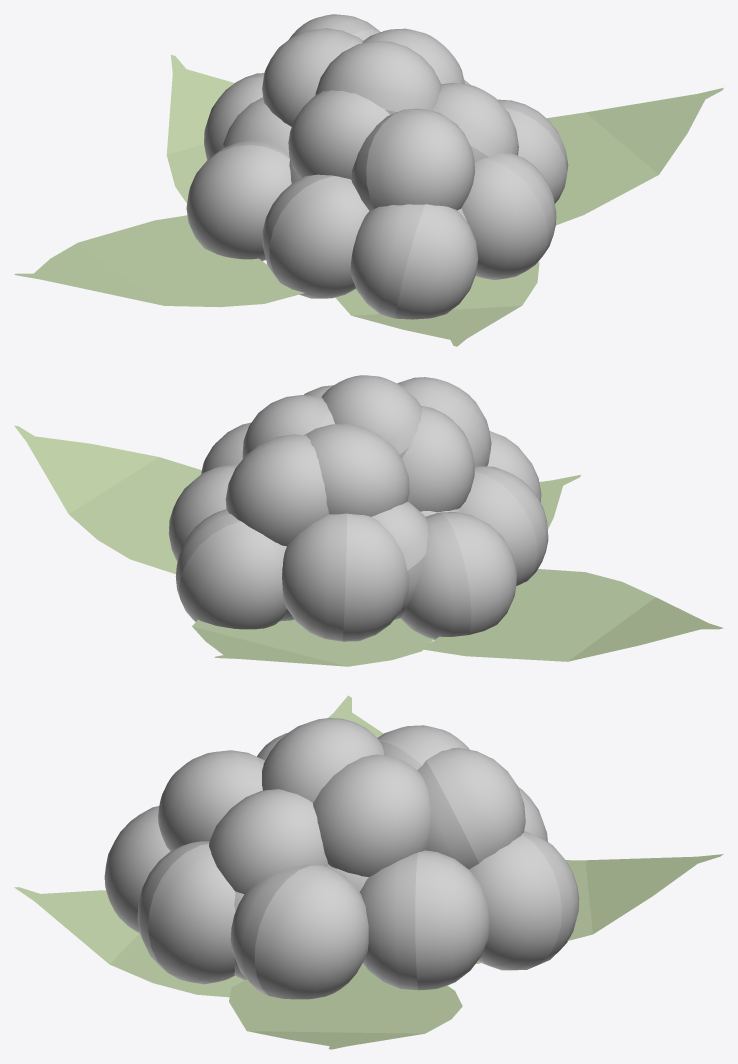
File: Kupina.obj
The picture shows the model from 3 angles, top to bottom: view 1: azimuth 30°, elevation 25°; view 2: azimuth 150°, elevation 25°; view 3: azimuth 270°, elevation 25°; orthographic projection. The views are drawn at different scales.
Parts seen in each view (by area): view 1: Mesh5 Group1 Model, Mesh22 Group1 Model, Mesh19 Group1 Model, Mesh13 Group1 Model, Mesh12 Group1 Model, Mesh14 Group1 Model, Mesh24 Group1 Model, Mesh3 Group1 Model, Mesh18 Group1 Model, Mesh21 Group1 Model, Mesh8 Group1 Model, Mesh20 Group1 Model (+6 smaller); view 2: Mesh5 Group1 Model, Mesh17 Group1 Model, Mesh19 Group1 Model, Mesh14 Group1 Model, Mesh16 Group1 Model, Mesh25 Group1 Model, Mesh8 Group1 Model, Mesh20 Group1 Model, Mesh18 Group1 Model, Mesh13 Group1 Model, Mesh3 Group1 Model, Mesh12 Group1 Model (+6 smaller); view 3: Mesh9 Group1 Model, Mesh11 Group1 Model, Mesh19 Group1 Model, Mesh2 Group1 Model, Mesh24 Group1 Model, Mesh16 Group1 Model, Mesh25 Group1 Model, Mesh10 Group1 Model, Mesh12 Group1 Model, Mesh21 Group1 Model, Mesh3 Group1 Model, Mesh20 Group1 Model (+4 smaller).
Part boxes in pixels (x1,y1,x2,y2): Mesh5 Group1 Model: (14, 215, 304, 307); Mesh22 Group1 Model: (350, 204, 478, 319); Mesh19 Group1 Model: (547, 87, 723, 225); Mesh13 Group1 Model: (262, 174, 369, 298); Mesh12 Group1 Model: (351, 108, 474, 210); Mesh14 Group1 Model: (186, 140, 291, 261); Mesh24 Group1 Model: (461, 153, 556, 279); Mesh3 Group1 Model: (315, 41, 441, 114); Mesh18 Group1 Model: (288, 90, 389, 179); Mesh21 Group1 Model: (335, 261, 539, 346); Mesh8 Group1 Model: (262, 28, 362, 126); Mesh20 Group1 Model: (166, 55, 234, 203); Mesh5 Group1 Model: (422, 569, 723, 661); Mesh17 Group1 Model: (282, 513, 408, 641); Mesh19 Group1 Model: (14, 425, 201, 574); Mesh14 Group1 Model: (400, 512, 517, 639); Mesh16 Group1 Model: (175, 509, 286, 629); Mesh25 Group1 Model: (225, 434, 328, 545); Mesh8 Group1 Model: (304, 424, 409, 516); Mesh20 Group1 Model: (192, 618, 433, 666); Mesh18 Group1 Model: (402, 406, 474, 512); Mesh13 Group1 Model: (460, 466, 548, 585); Mesh3 Group1 Model: (321, 375, 421, 458); Mesh12 Group1 Model: (397, 377, 491, 466); Mesh9 Group1 Model: (230, 864, 368, 999); Mesh11 Group1 Model: (359, 850, 490, 990); Mesh19 Group1 Model: (229, 963, 462, 1049); Mesh2 Group1 Model: (313, 754, 430, 876); Mesh24 Group1 Model: (137, 841, 235, 984); Mesh16 Group1 Model: (469, 831, 579, 970); Mesh25 Group1 Model: (417, 747, 525, 869); Mesh10 Group1 Model: (209, 789, 327, 894); Mesh12 Group1 Model: (158, 750, 264, 850); Mesh21 Group1 Model: (14, 887, 244, 997); Mesh3 Group1 Model: (262, 717, 383, 802); Mesh20 Group1 Model: (476, 854, 723, 963).
Bounding box in the file's own units: 9.44 × 2.67 × 7.49.
